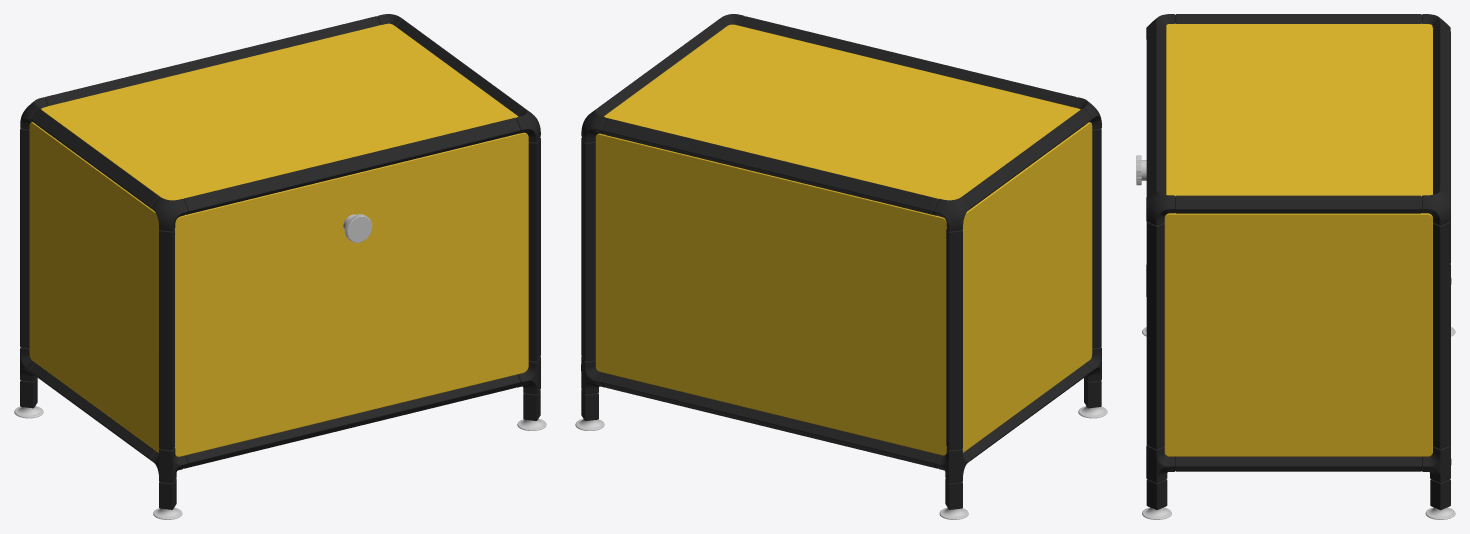
3 renders of one model, left to right at view 1: azimuth 30°, elevation 25°; view 2: azimuth 150°, elevation 25°; view 3: azimuth 270°, elevation 25°, orthographic. The views are drawn at different scales.
Parts seen in each view (by area): view 1: 523x329x329; view 2: 523x329x329; view 3: 523x329x329.
Boxes of the visible parts, x1,y1,x2,y2 form: 523x329x329: [14, 14, 546, 519]; 523x329x329: [575, 14, 1107, 519]; 523x329x329: [1136, 14, 1455, 519].
Size of the model in its own units: 0.6129 by 0.4683 by 0.4257.
